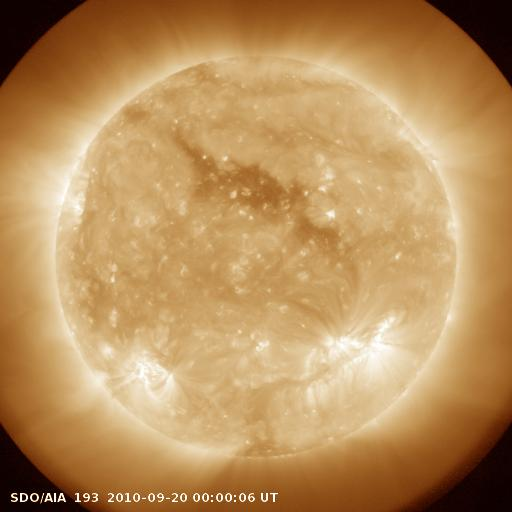coronal_hole: (182, 138, 319, 231)
